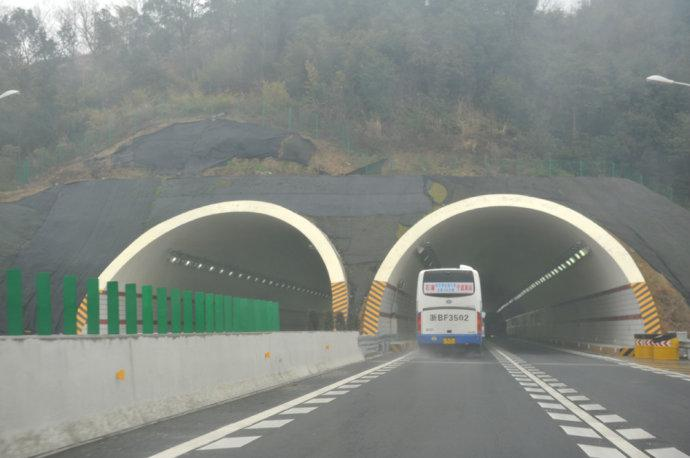bus: (414, 263, 483, 355), (483, 311, 507, 338)
